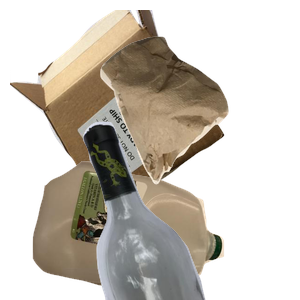cardboard: (10, 10, 227, 190)
glass: (81, 120, 300, 300)
plastic: (30, 159, 247, 300)
trash: (98, 34, 300, 211)
